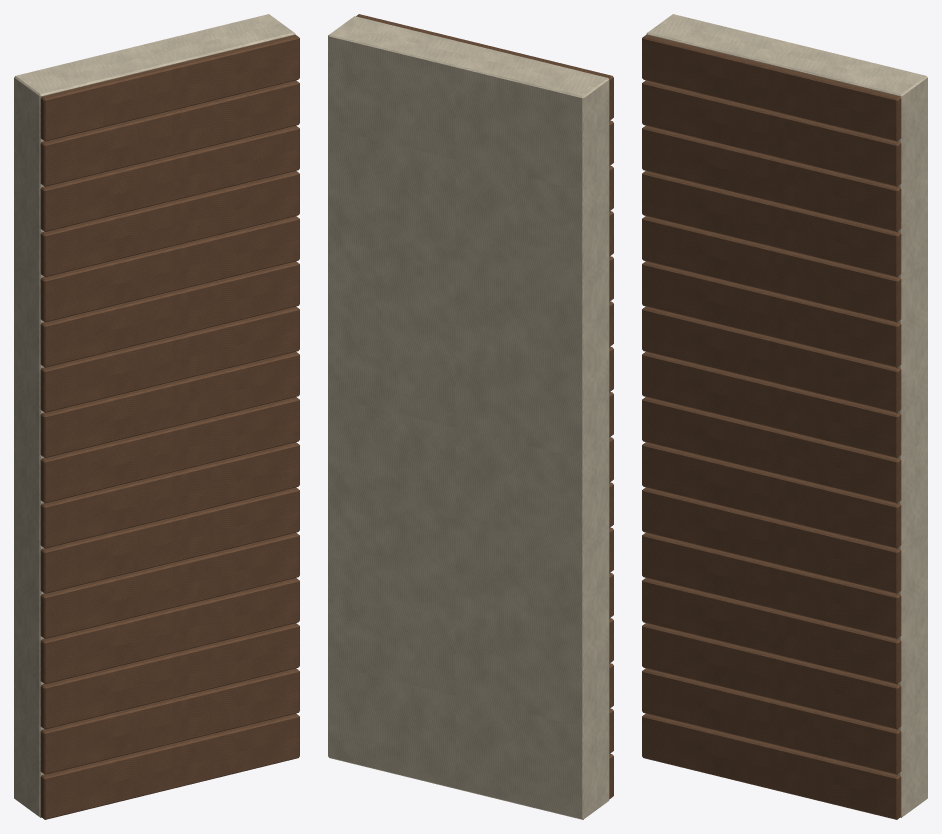
File: wall_section.glb
3 renders of one model, left to right at view 1: azimuth 30°, elevation 25°; view 2: azimuth 150°, elevation 25°; view 3: azimuth 330°, elevation 25°, orthographic.
Visible parts, largest first — view 1: wall_section_Mesh; view 2: wall_section_Mesh; view 3: wall_section_Mesh.
Boxes of the visible parts, x1,y1,x2,y2 form: wall_section_Mesh: [14, 14, 299, 819]; wall_section_Mesh: [328, 14, 613, 819]; wall_section_Mesh: [642, 14, 927, 819].
Bounding box in the file's own units: 1 × 2.7 × 0.21.
2 materials, 2 textured.
